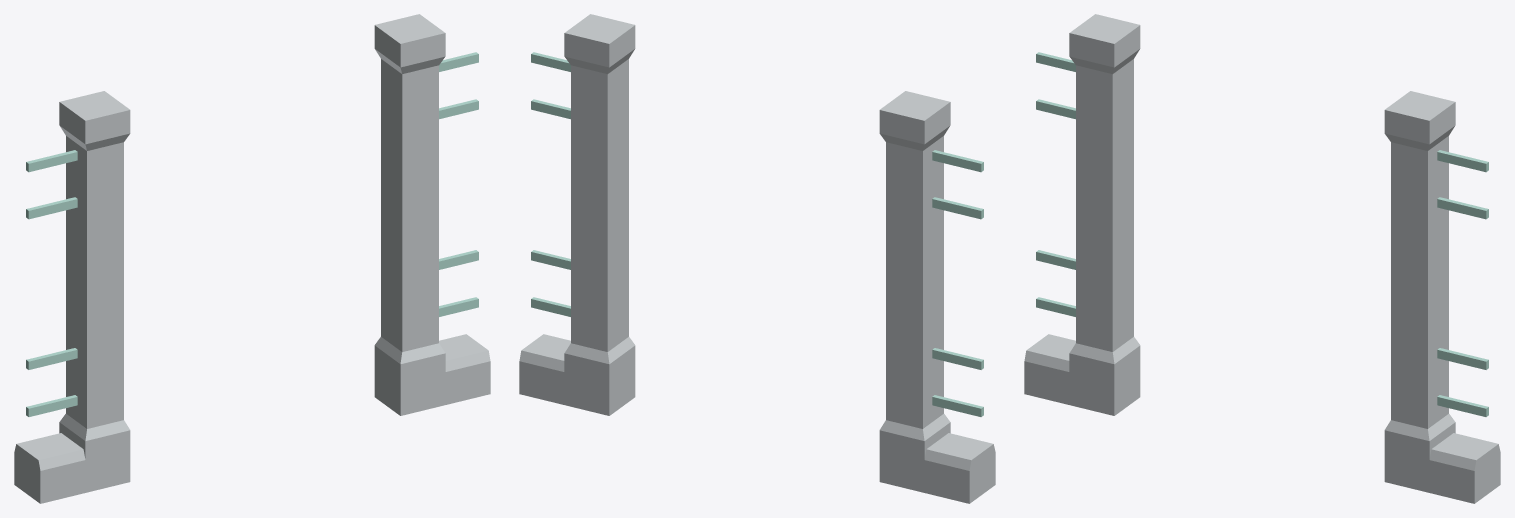
File: fenceIronGate.glb
3 renders of one model, left to right at view 1: azimuth 30°, elevation 25°; view 2: azimuth 150°, elevation 25°; view 3: azimuth 330°, elevation 25°, orthographic.
Parts seen in each view (by area): view 1: fenceIronGate(Clone); view 2: fenceIronGate(Clone); view 3: fenceIronGate(Clone).
Part boxes in pixels (left/top/right/bottom): fenceIronGate(Clone): left=14, top=14, right=490, bottom=503; fenceIronGate(Clone): left=519, top=14, right=995, bottom=503; fenceIronGate(Clone): left=1024, top=14, right=1500, bottom=503.
Size of the model in its own units: 1 by 0.79 by 0.1.
